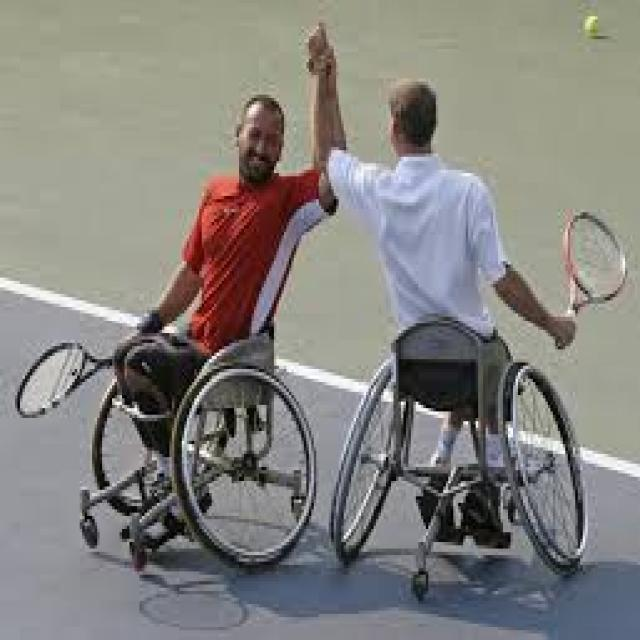wheelchairs: (64, 294, 333, 578), (331, 320, 585, 591)
